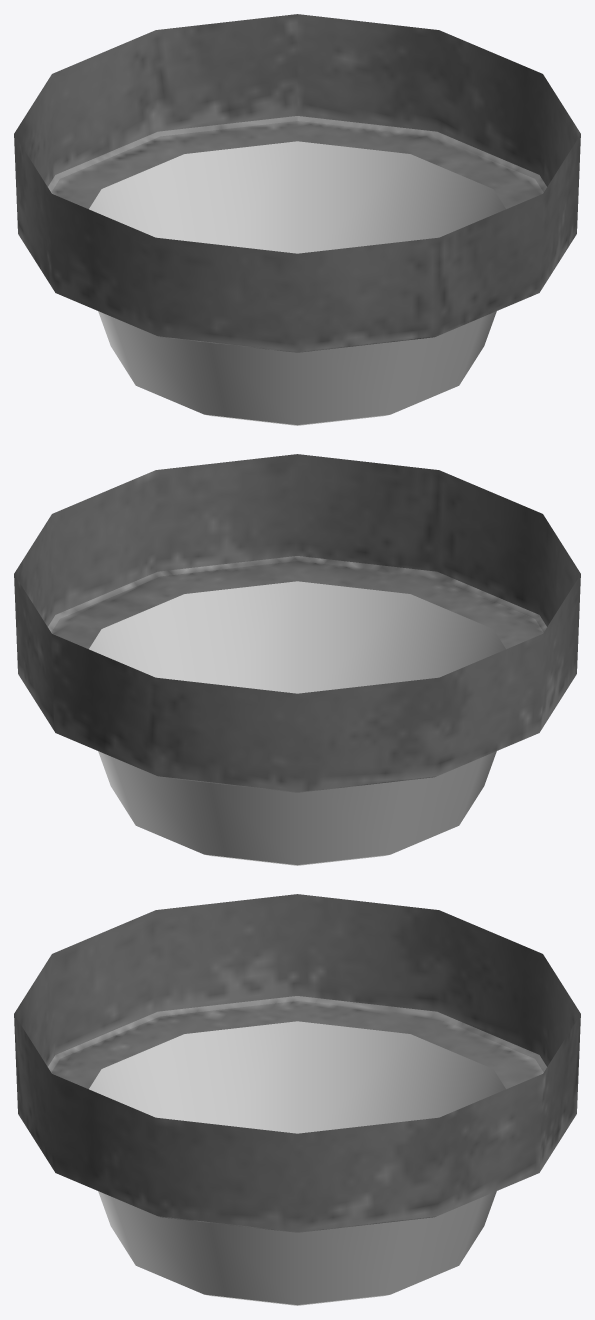
Rendered from SM_Light_Emission.fbx.
3 renders of one model, top to bottom at view 1: azimuth 30°, elevation 25°; view 2: azimuth 150°, elevation 25°; view 3: azimuth 270°, elevation 25°, orthographic.
Visible parts, largest first — view 1: SM_Light_Emission; view 2: SM_Light_Emission; view 3: SM_Light_Emission.
Part boxes in pixels (x1,y1,x2,y2): SM_Light_Emission: (14,14,580,425); SM_Light_Emission: (14,454,580,865); SM_Light_Emission: (14,894,580,1305).
Bounding box in the file's own units: 0.4961 × 0.4961 × 0.2104.
